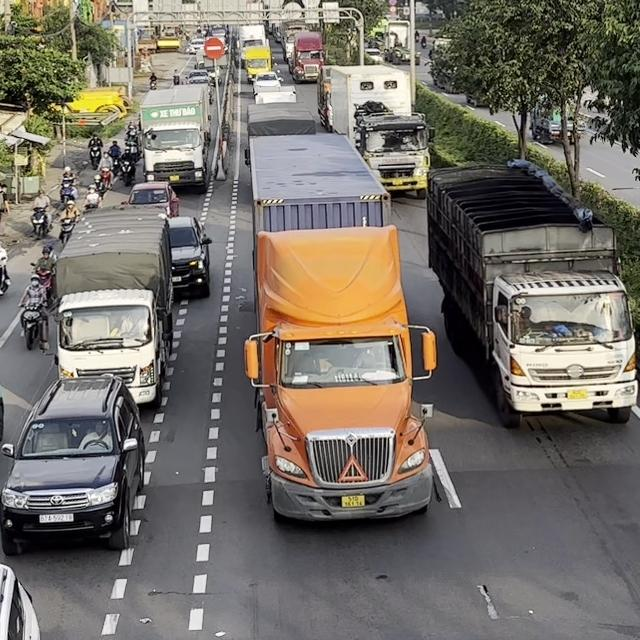car: (0, 372, 146, 556), (161, 215, 212, 298), (120, 180, 179, 218)
motorcycle: (17, 301, 48, 352), (30, 261, 53, 297), (29, 206, 50, 239), (118, 153, 136, 186), (87, 133, 103, 169), (58, 215, 76, 244), (59, 179, 77, 205)
truck: (234, 136, 438, 523), (425, 158, 639, 428), (49, 206, 174, 408), (329, 67, 437, 200), (138, 83, 219, 193), (243, 102, 318, 168), (287, 31, 324, 83), (231, 24, 269, 69)
